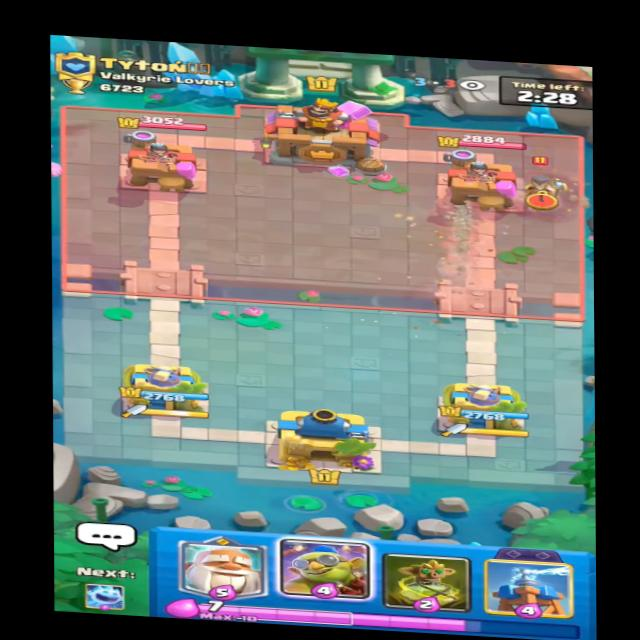Nightwitch: (515, 153, 571, 210)
